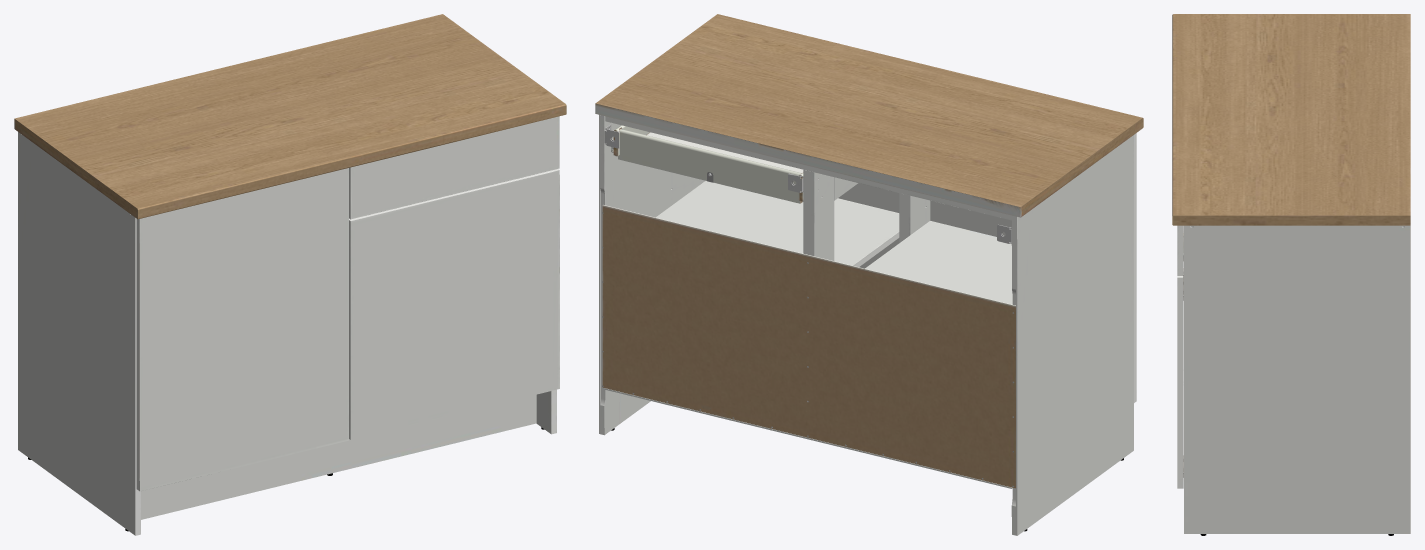
3 renders of one model, left to right at view 1: azimuth 30°, elevation 25°; view 2: azimuth 150°, elevation 25°; view 3: azimuth 270°, elevation 25°, orthographic. The views are drawn at different scales.
Visible parts, largest first — view 1: 30326790-KNOXHULT001; view 2: 30326790-KNOXHULT001; view 3: 30326790-KNOXHULT001.
Boxes of the visible parts, box(x1,y1,x2,y2) form: 30326790-KNOXHULT001: box(14, 14, 566, 535); 30326790-KNOXHULT001: box(595, 14, 1143, 535); 30326790-KNOXHULT001: box(1172, 14, 1410, 535).
Bounding box in the file's own units: 1.22 × 0.9094 × 0.6103.
2 materials, 2 textured.
